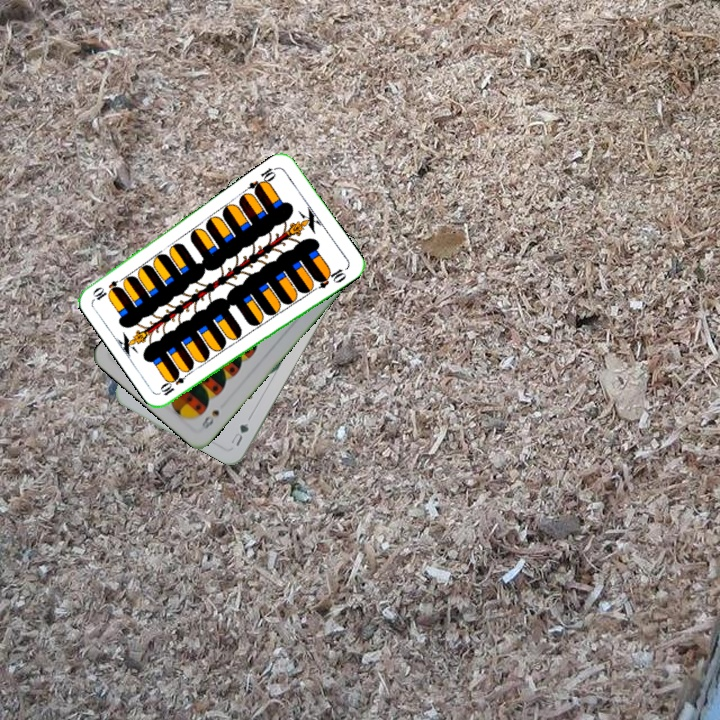E10: (244, 163, 280, 196), (158, 367, 193, 398)
GU: (227, 419, 251, 449)
S8: (198, 406, 222, 433)
